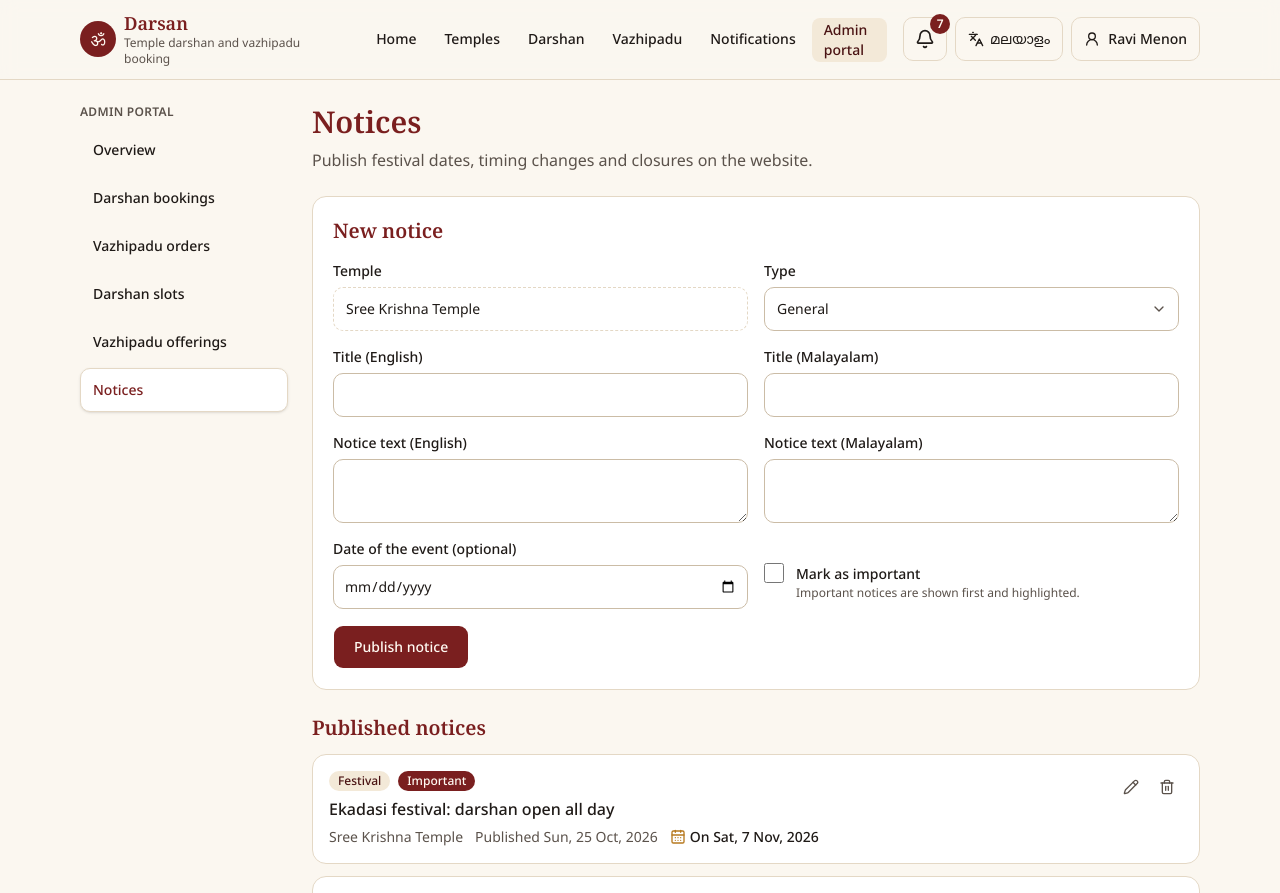
Scenario: Notices › staff edit a notice, and the change shows in the list
Click the button named "Edit notice: Ekadasi festival".
click(1131, 786)  # box 1115,770 -> 1147,802
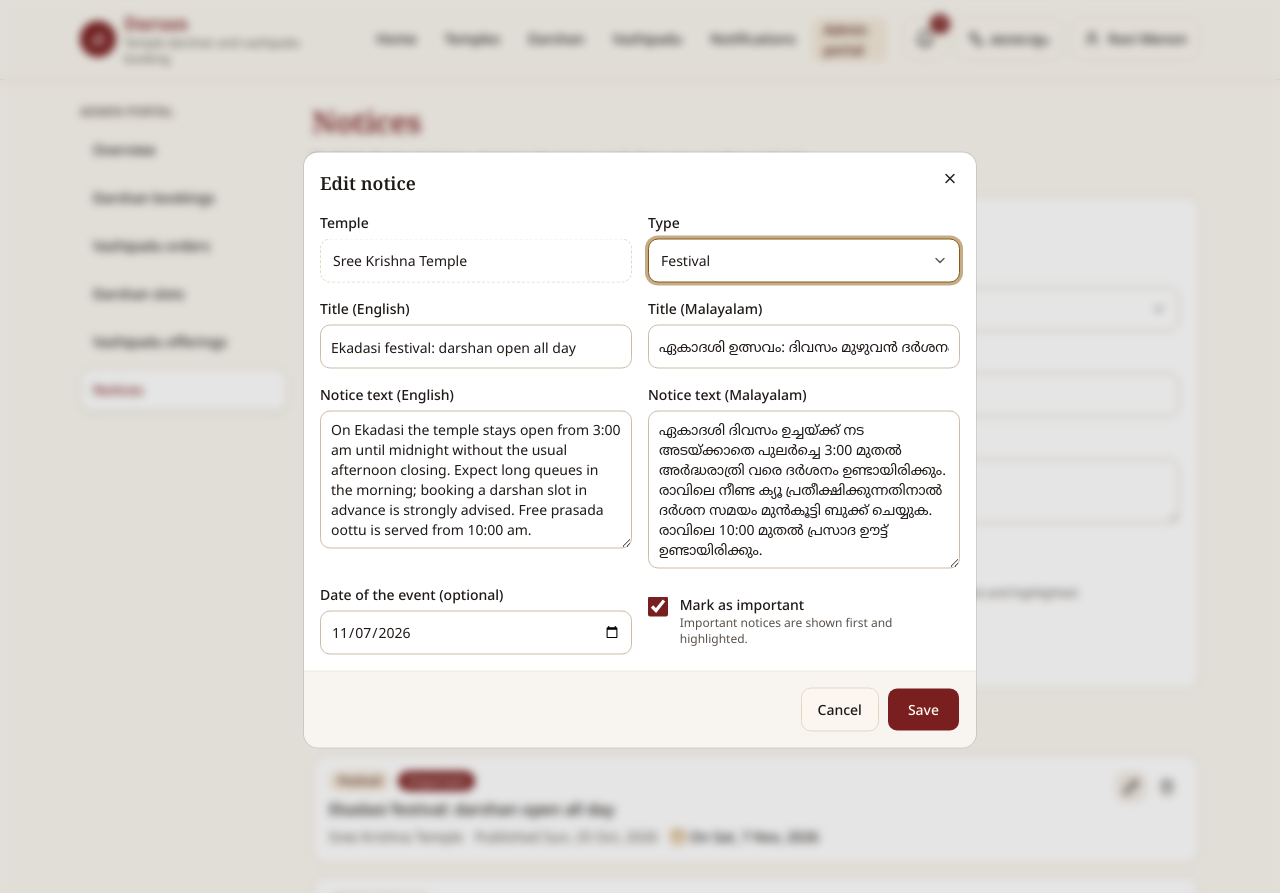
Replace the text in the field labelled "Title (English)" with "Ekadasi: darshan from 3 am" at {"x": 476, "y": 346}, box 320,324 -> 632,368
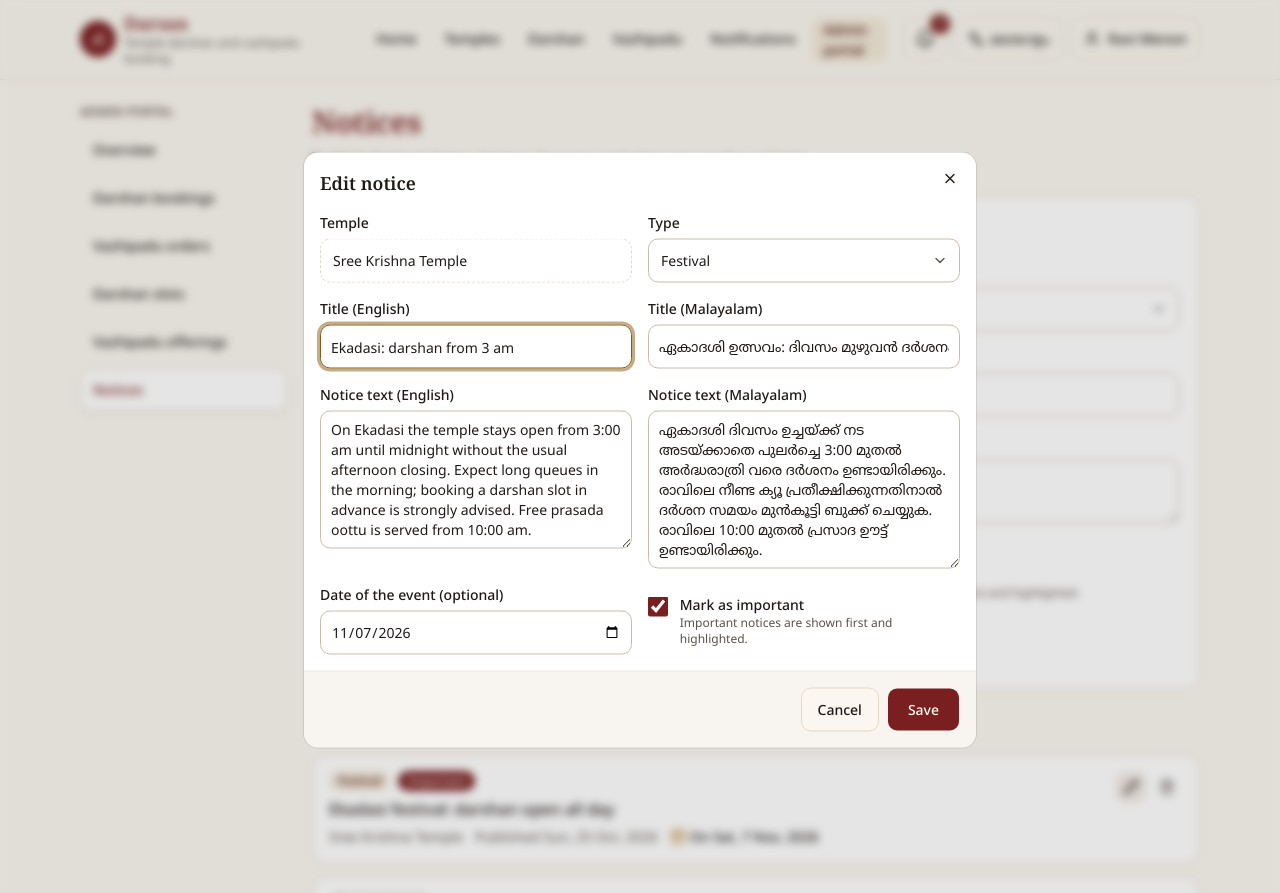
Click the button "Save".
click(923, 710)  # box 887,688 -> 960,732
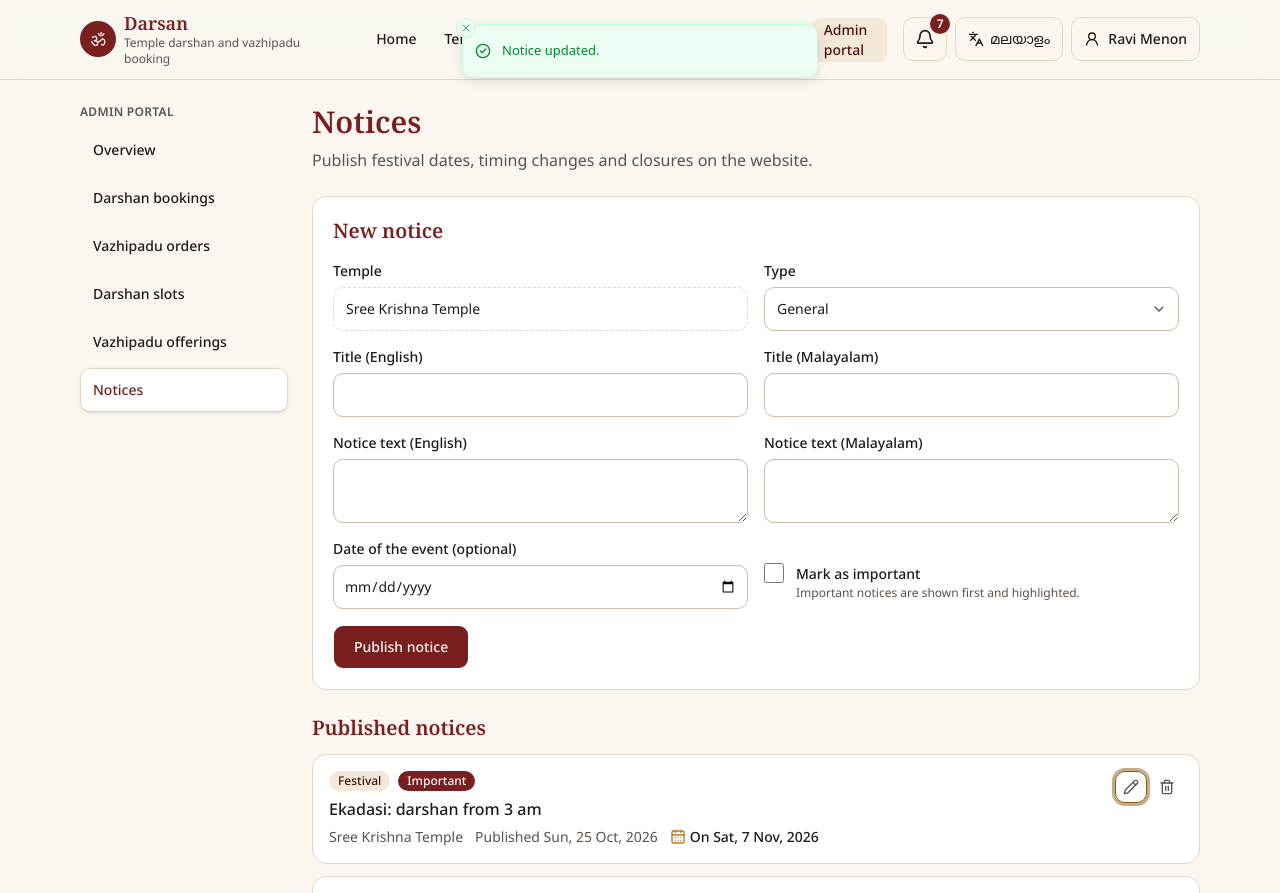
Result: the text "Notice updated." is shown at 502,41 -> 600,60
Result: the text "Ekadasi: darshan from 3 am" is shown at 329,798 -> 542,820
